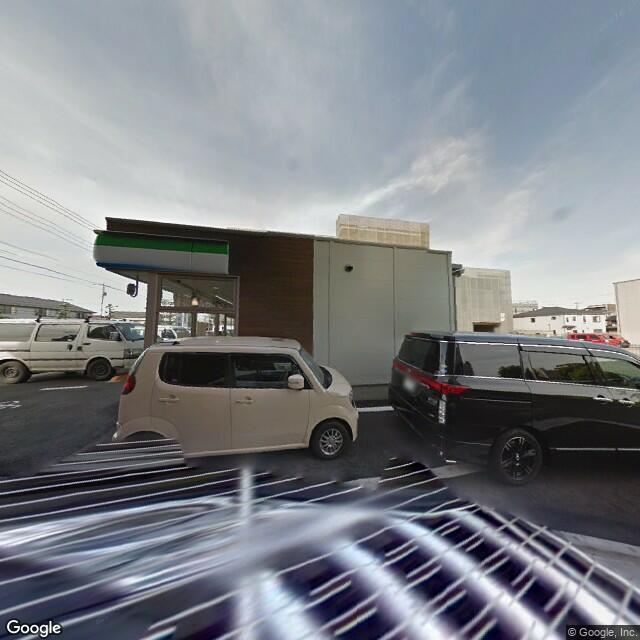family_mart: (91, 230, 233, 278)
